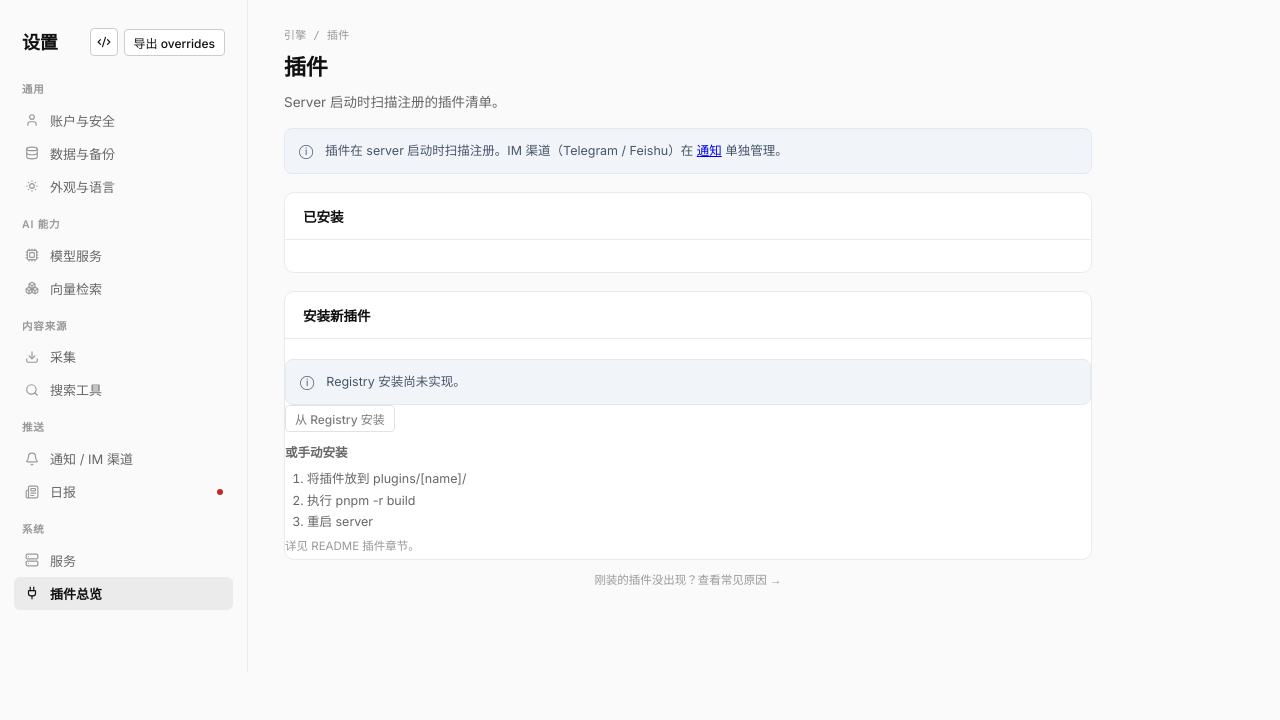
Test: SettingsShell · cross-group dirty › per-field commit does not create a phantom dirty entry that lingers SaveBar
Step 1. Click the button "账户与安全" → (124, 120), box [14,104,233,137]
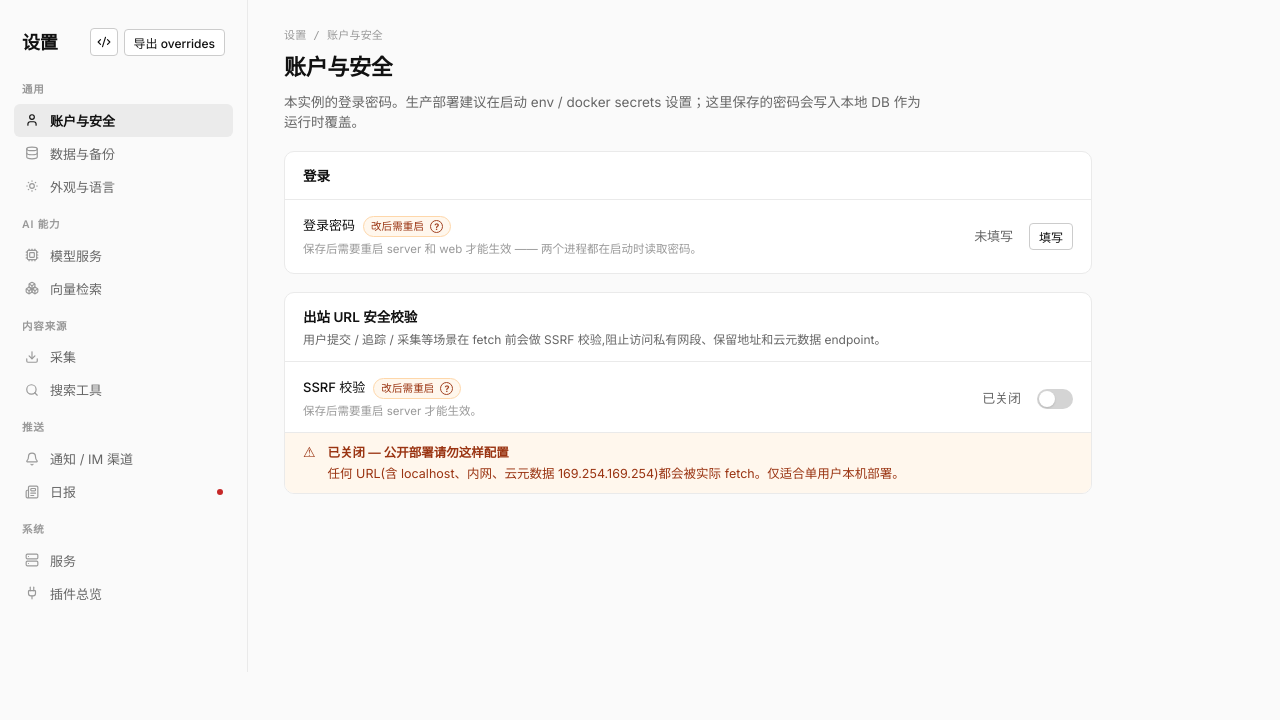
Step 2. Click the button named "SSRF 校验" → (1055, 399), box [1037,389,1073,409]
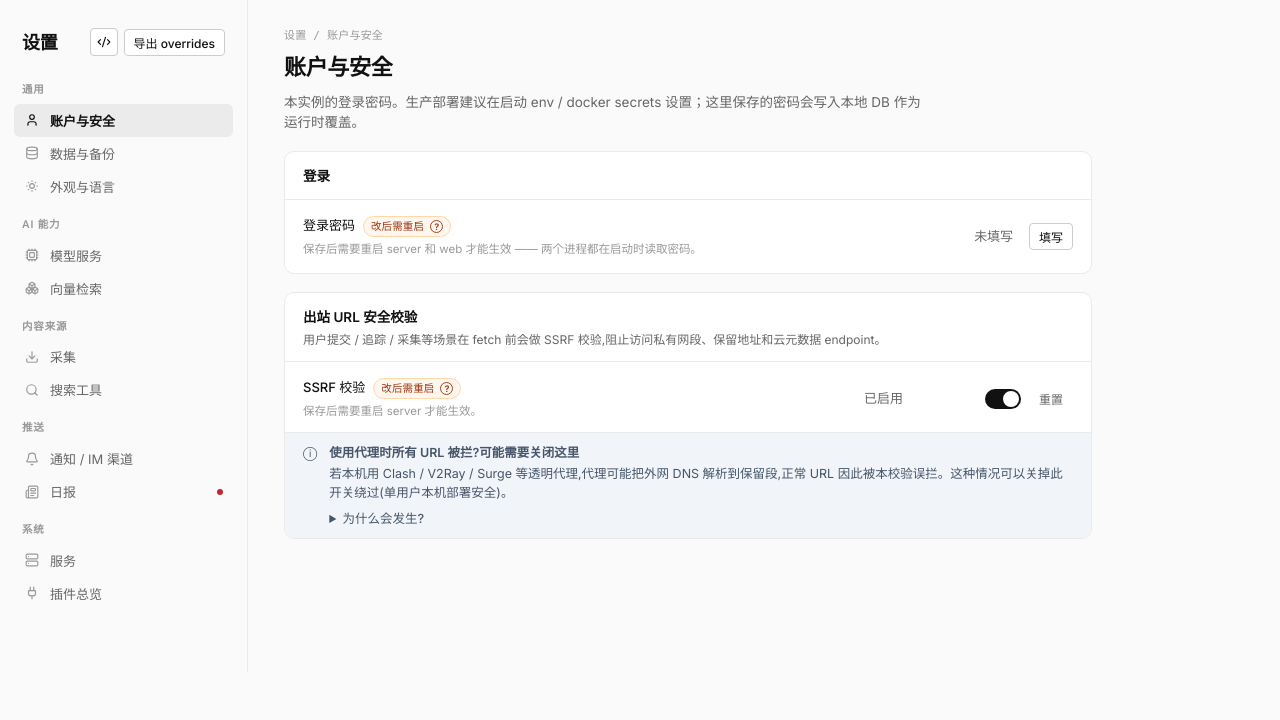
Step 3. Click the button "外观与语言" → (124, 186), box [14,170,233,203]
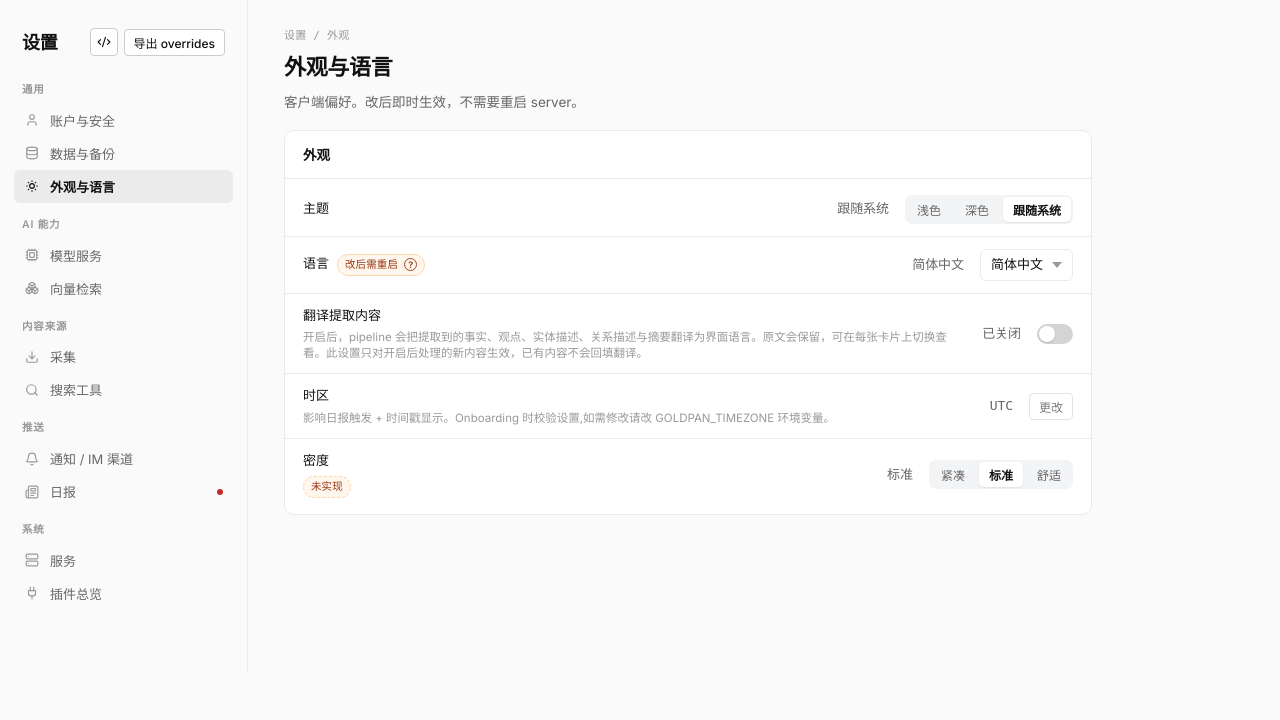
expect the text "保存" is gone: met
